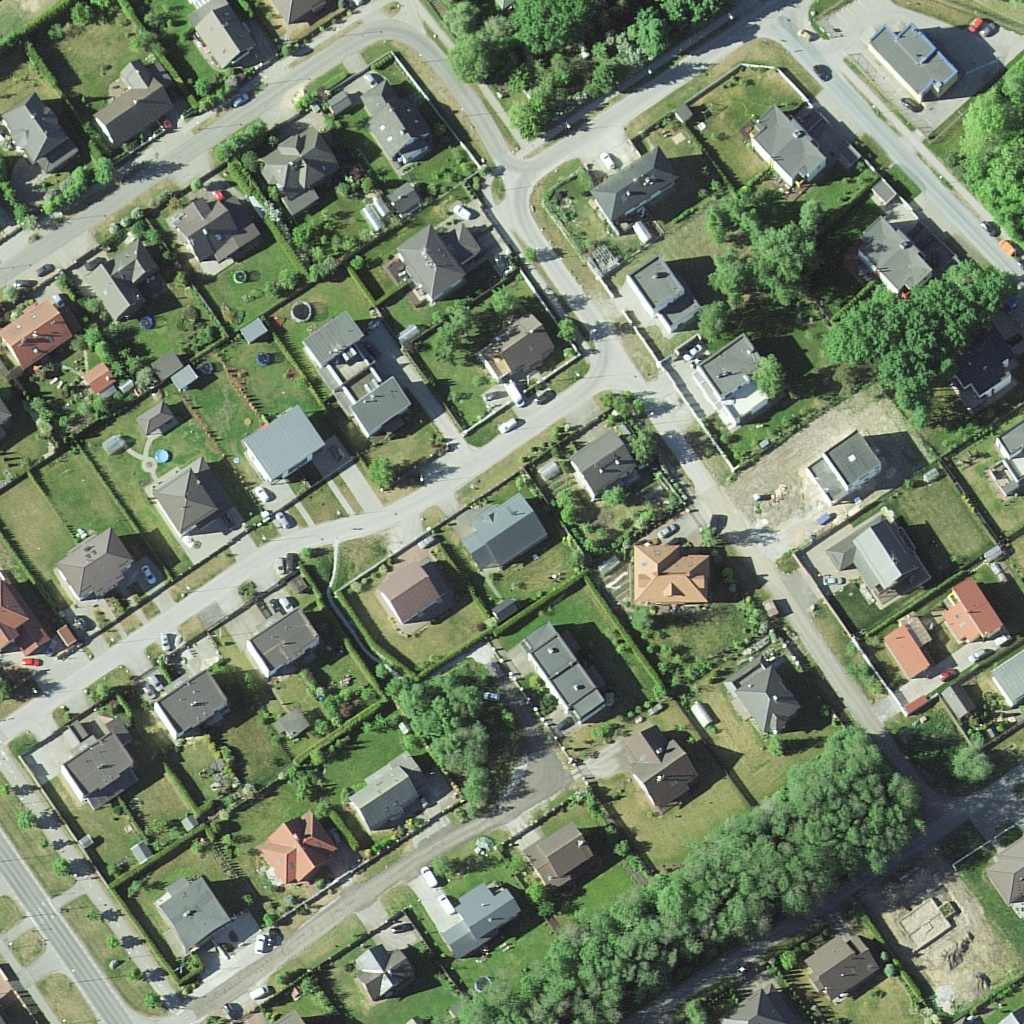building: (309, 316, 409, 441), (525, 609, 605, 722), (698, 329, 781, 431), (875, 13, 960, 108), (392, 222, 490, 298), (744, 105, 831, 188), (834, 516, 923, 596), (847, 224, 937, 302), (595, 150, 685, 225), (464, 502, 556, 573), (81, 241, 160, 319), (436, 881, 520, 953), (1, 85, 74, 166), (631, 537, 712, 610), (632, 723, 698, 812), (357, 86, 438, 158), (58, 531, 137, 603), (256, 403, 322, 486), (818, 432, 889, 509), (98, 69, 176, 138), (634, 263, 704, 339), (65, 736, 142, 804), (734, 664, 802, 741), (263, 819, 336, 890), (260, 132, 344, 192), (948, 348, 1024, 411), (528, 822, 596, 892), (157, 876, 227, 942), (258, 612, 324, 682), (1, 308, 74, 370), (811, 929, 872, 1002), (158, 677, 227, 741), (942, 577, 1009, 641), (178, 201, 257, 255), (878, 612, 942, 677), (158, 465, 221, 528), (192, 1, 250, 69), (351, 941, 418, 996), (495, 316, 552, 379), (388, 563, 443, 626), (582, 432, 634, 498), (348, 777, 411, 825)
